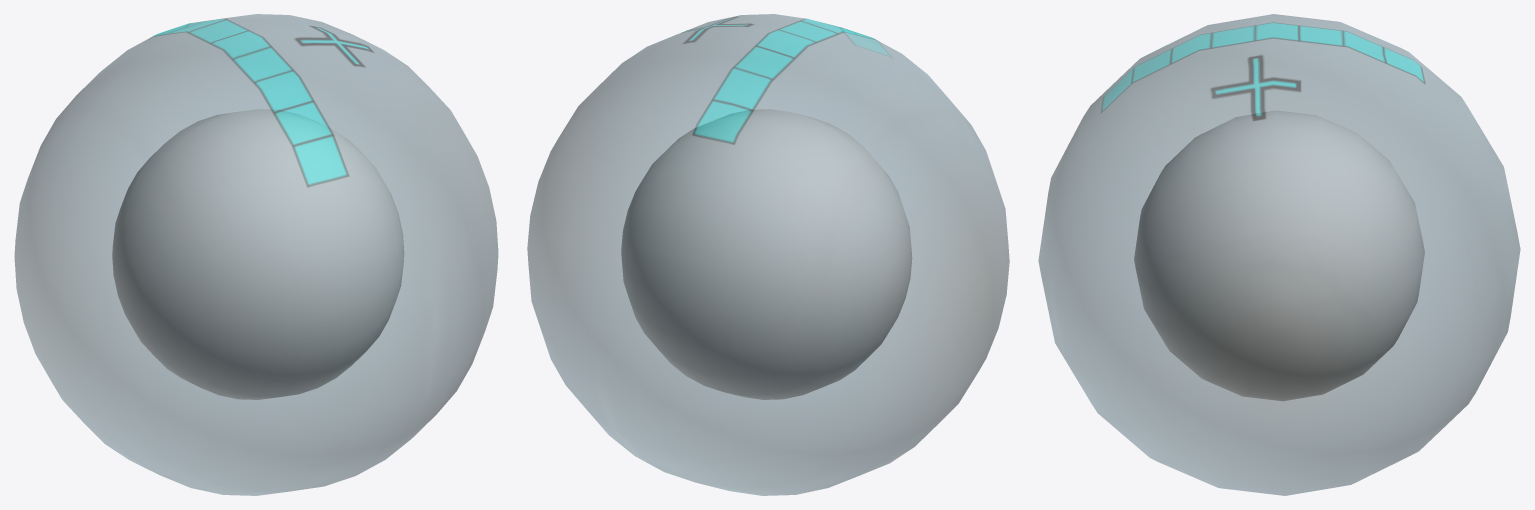
Rendered from Add Row.fbx.
The picture shows the model from 3 angles, left to right: view 1: azimuth 30°, elevation 25°; view 2: azimuth 150°, elevation 25°; view 3: azimuth 270°, elevation 25°; orthographic projection.
Visible parts, largest first — view 1: polySurface1; view 2: polySurface1; view 3: polySurface1.
Part boxes in pixels (x1=…): polySurface1: x1=14, y1=14, x2=498, y2=495; polySurface1: x1=527, y1=14, x2=1009, y2=495; polySurface1: x1=1038, y1=14, x2=1520, y2=495.
Size of the model in its own units: 2 by 2 by 2.
